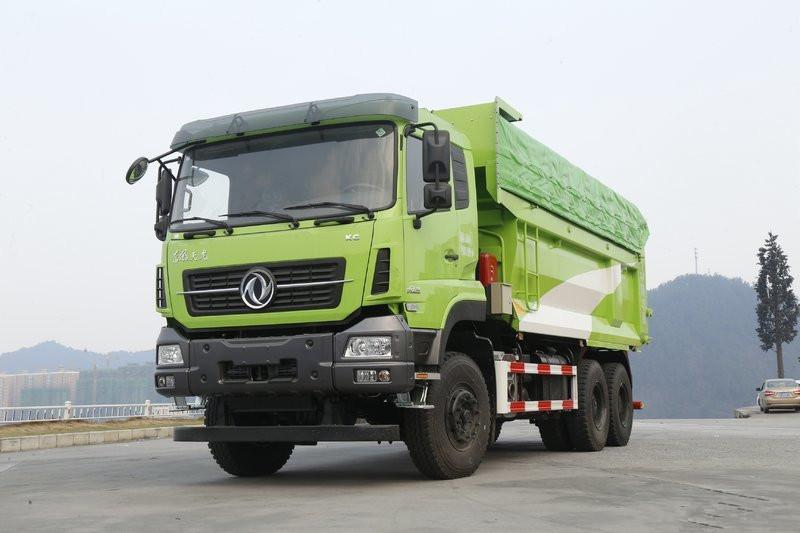truck: (130, 74, 654, 481)
